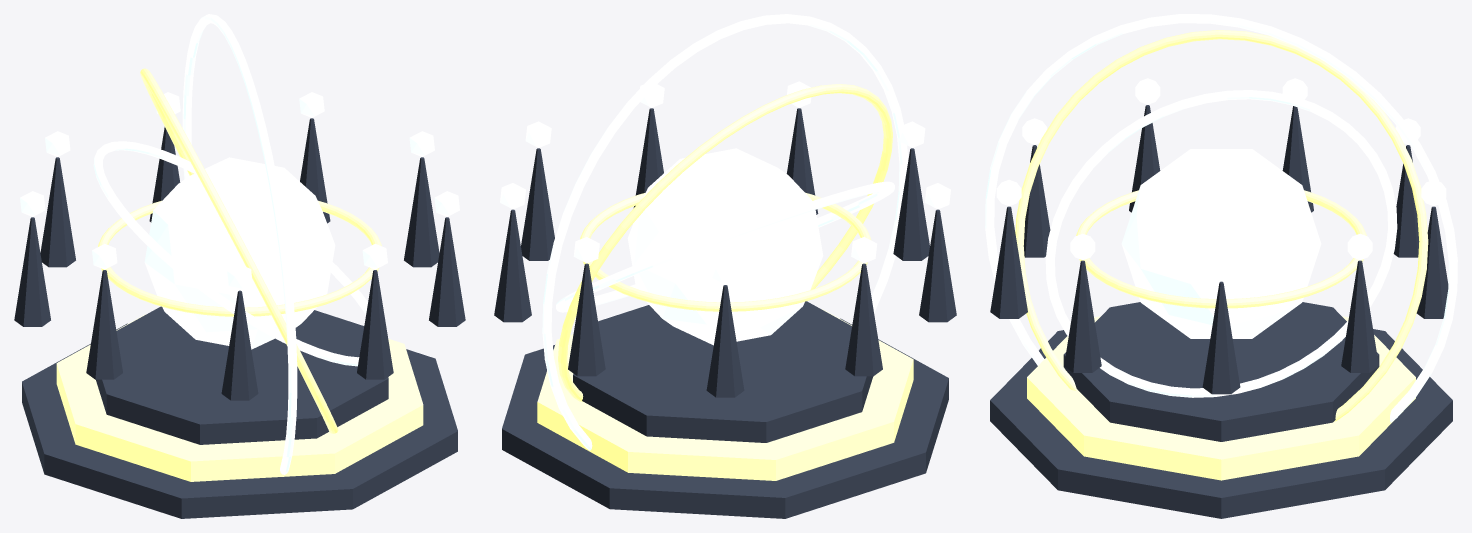
File: gpu-blender-v1.glb
The picture shows the model from 3 angles, left to right: view 1: azimuth 30°, elevation 25°; view 2: azimuth 150°, elevation 25°; view 3: azimuth 270°, elevation 25°; orthographic projection. The views are drawn at different scales.
Visible parts, largest first — view 1: Cylinder.002, Cylinder, SovereignCore_audiocipher-stego-engine, Cylinder.001, Torus.003, Torus.001, Torus.002, Torus, Cone.006, Cone, Cone.003, Cone.005 (+13 smaller); view 2: Cylinder.002, SovereignCore_audiocipher-stego-engine, Cylinder, Cylinder.001, Torus.003, Torus.002, Torus.001, Torus, Cone.002, Cone.004, Cone.001, Cone.005 (+12 smaller); view 3: SovereignCore_audiocipher-stego-engine, Cylinder.002, Cylinder, Cylinder.001, Torus.003, Torus.002, Torus.001, Torus, Cone, Cone.007, Cone.001, Cone.008 (+9 smaller).
Part boxes in pixels (x1,y1,x2,y2): Cylinder.002: (96,306,388,444); Cylinder: (22,323,457,518); SovereignCore_audiocipher-stego-engine: (144,157,335,349); Cylinder.001: (56,314,423,481); Torus.003: (182,14,297,474); Torus.001: (93,141,367,366); Torus.002: (140,68,338,433); Torus: (98,200,381,316); Cone.006: (221,290,258,400); Cone: (404,157,439,267); Cone.003: (40,157,75,267); Cone.005: (86,270,122,379); Cylinder.002: (573,301,873,442); SovereignCore_audiocipher-stego-engine: (627,148,823,345); Cylinder: (502,318,948,518); Cylinder.001: (537,309,913,480); Torus.003: (542,14,908,450); Torus.002: (558,84,892,401); Torus.001: (556,181,894,312); Torus: (580,192,870,311); Cone.002: (568,263,605,376); Cone.004: (845,263,882,376); Cone.001: (494,209,531,322); Cone.005: (919,209,956,322); SovereignCore_audiocipher-stego-engine: (1121,149,1321,338); Cylinder.002: (1063,302,1379,441); Cylinder: (990,329,1452,518); Cylinder.001: (1027,316,1415,480); Torus.003: (985,14,1457,422); Torus.002: (1015,30,1428,421); Torus.001: (1045,90,1397,397); Torus: (1076,190,1366,308); Cone: (1202,281,1240,394); Cone.007: (990,206,1027,318); Cone.001: (1341,260,1378,372); Cone.008: (1064,260,1101,372).
Size of the model in its own units: 4.41 by 4.7 by 4.49.
